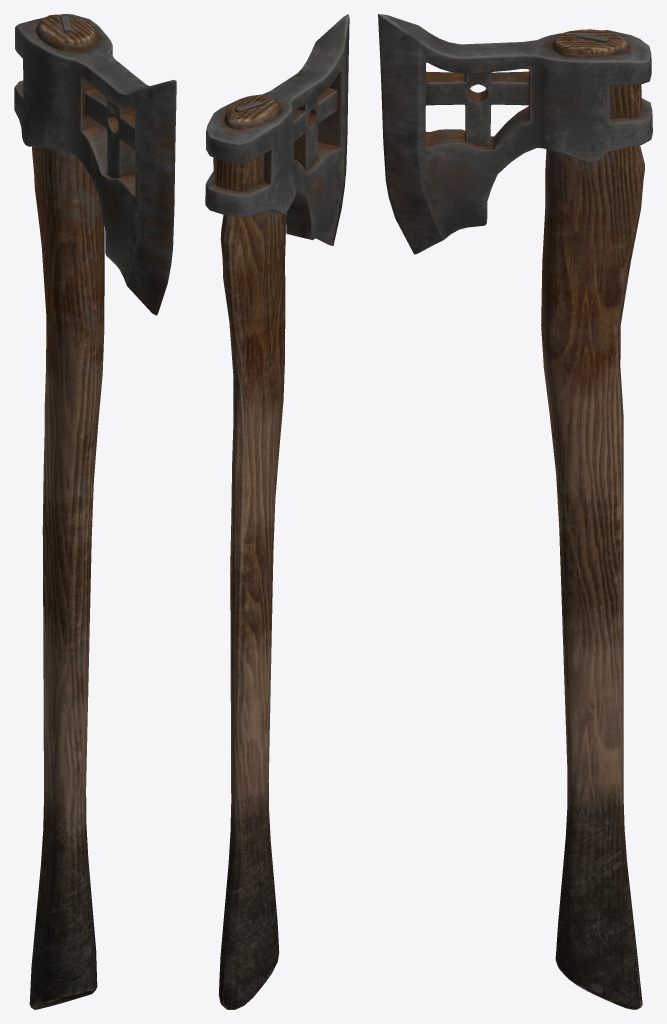
The model's file is wooden_axe_03.glb.
3 views of the same model, side by side, from view 1: azimuth 30°, elevation 25°; view 2: azimuth 150°, elevation 25°; view 3: azimuth 270°, elevation 25° (orthographic). The views are drawn at different scales.
Visible parts, largest first — view 1: wooden_axe_03; view 2: wooden_axe_03; view 3: wooden_axe_03.
Part boxes in pixels (box(x1,y1,x2,y2)): wooden_axe_03: box(14, 14, 176, 1009); wooden_axe_03: box(205, 14, 349, 1009); wooden_axe_03: box(378, 14, 652, 1009).
Size of the model in its own units: 0.0505 by 0.6318 by 0.1584.
Materials: 1 (1 with a texture image).
